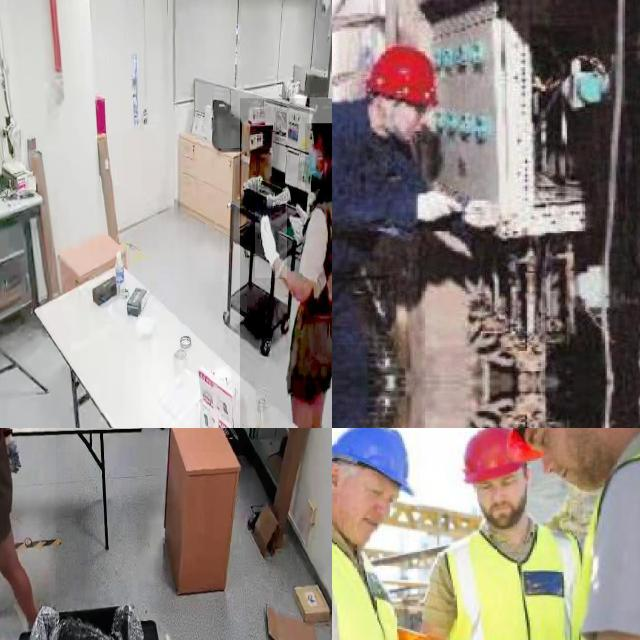No_Ear-Protection: (332, 464, 344, 496)
No_Glasses: (360, 475, 399, 510), (475, 472, 523, 497)
face_mask: (305, 123, 325, 189)
face_nomask: (337, 493, 386, 549), (480, 487, 528, 528), (394, 99, 429, 140)
hand_glove: (255, 200, 287, 278), (414, 189, 465, 226)
head_helmet: (332, 428, 414, 494), (366, 46, 443, 108), (465, 428, 536, 483)
head_nohelmet: (309, 97, 332, 124)
person: (332, 42, 447, 428), (240, 98, 332, 428)
